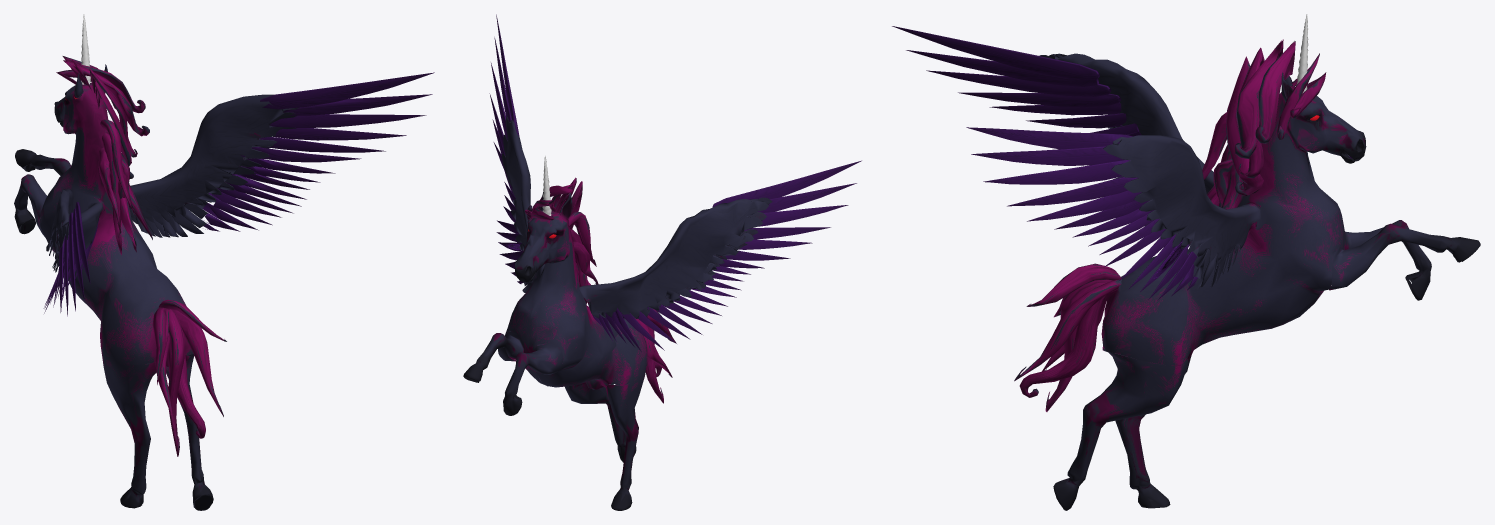
File: unicorn.obj
3 views of the same model, side by side, from view 1: azimuth 30°, elevation 25°; view 2: azimuth 150°, elevation 25°; view 3: azimuth 270°, elevation 25° (orthographic). The views are drawn at different scales.
Visible parts, largest first — view 1: part0, part1; view 2: part0, part1; view 3: part0, part1.
Part boxes in pixels (left/top/right/bottom): part0: left=14, top=56, right=298, bottom=510; part1: left=43, top=72, right=434, bottom=316; part0: left=463, top=116, right=772, bottom=510; part1: left=489, top=14, right=861, bottom=351; part0: left=1014, top=39, right=1480, bottom=510; part1: left=892, top=26, right=1351, bottom=300.
Size of the model in its own units: 3.07 by 3.4 by 3.62.
Materials: 4 (3 with a texture image).
